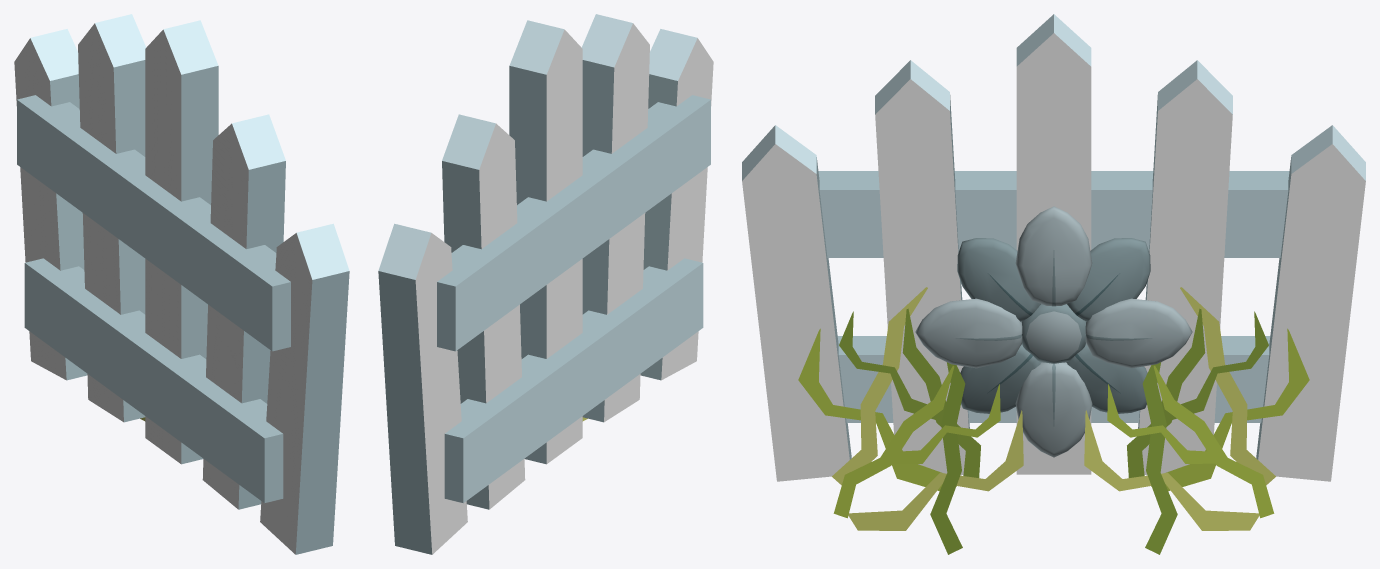
File: mesh_gate.fbx
3 views of the same model, side by side, from view 1: azimuth 30°, elevation 25°; view 2: azimuth 150°, elevation 25°; view 3: azimuth 270°, elevation 25° (orthographic). The views are drawn at different scales.
Visible parts, largest first — view 1: mesh_fenceGate; view 2: mesh_fenceGate; view 3: mesh_fenceGate, mesh_metalFlower, mesh_plantsLeft, mesh_plantsRight.
Boxes of the visible parts, x1=… form: mesh_fenceGate: x1=14, y1=14, x2=349, y2=554; mesh_fenceGate: x1=378, y1=14, x2=713, y2=554; mesh_fenceGate: x1=742, y1=14, x2=1365, y2=481; mesh_metalFlower: x1=915, y1=206, x2=1192, y2=457; mesh_plantsLeft: x1=798, y1=287, x2=1023, y2=554; mesh_plantsRight: x1=1084, y1=287, x2=1309, y2=554.
Bounding box in the file's own units: 0.7544 × 3.72 × 4.16.
Materials: 1 (1 with a texture image).
